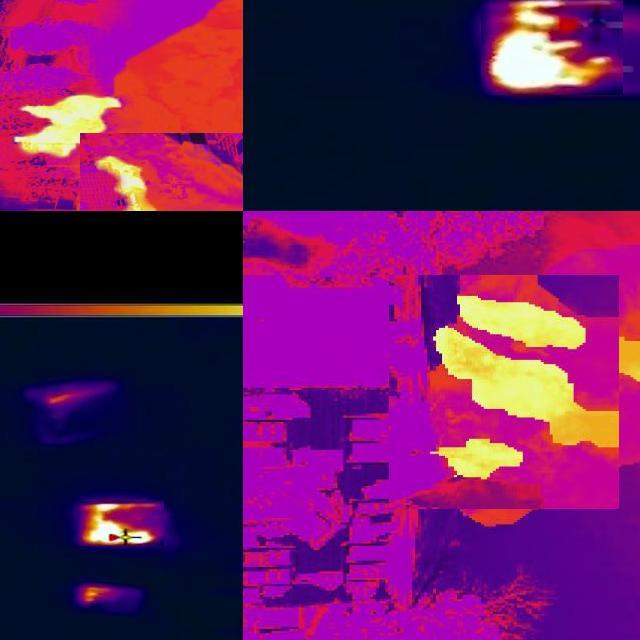fire: (428, 293, 621, 484), (482, 1, 624, 95), (11, 94, 126, 157), (89, 155, 162, 211), (79, 501, 165, 546), (45, 383, 96, 408), (76, 584, 117, 611), (623, 336, 640, 387)
